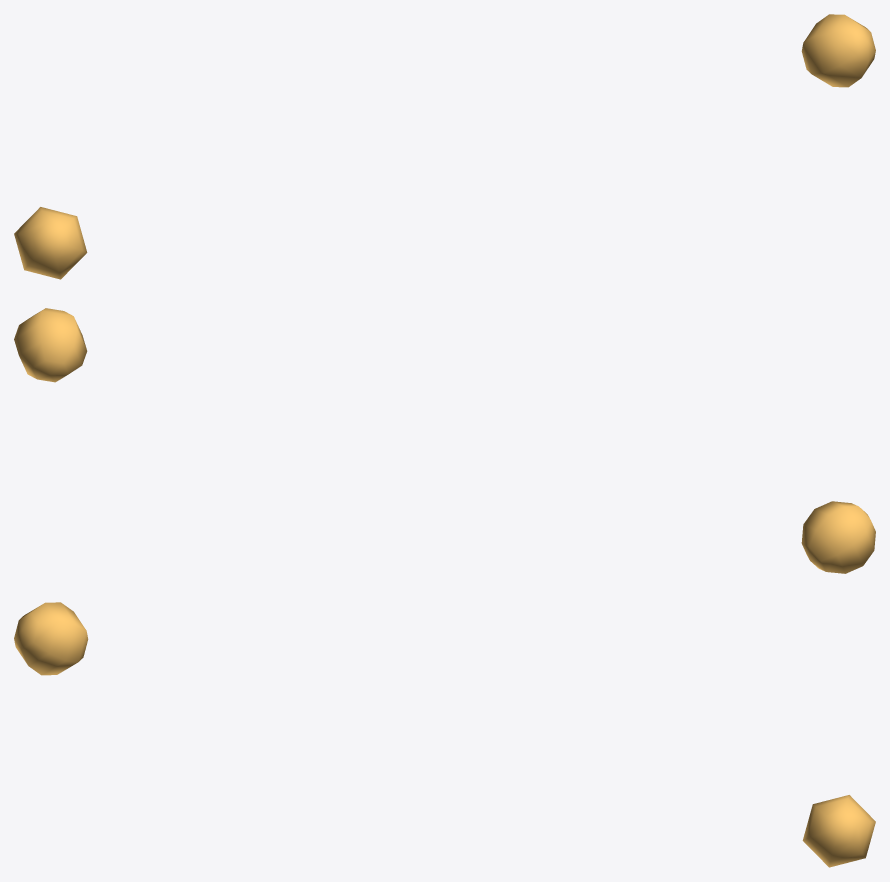
File: Earring_2.fbx
The picture shows the model from 3 angles, top to bottom: view 1: azimuth 30°, elevation 25°; view 2: azimuth 150°, elevation 25°; view 3: azimuth 330°, elevation 25°; orthographic projection.
Parts seen in each view (by area): view 1: Earring_2; view 2: Earring_2; view 3: Earring_2.
Part boxes in pixels (x1,y1,x2,y2): Earring_2: (14, 14, 875, 279); Earring_2: (14, 308, 875, 573); Earring_2: (14, 602, 875, 867).
Size of the model in its own units: 55.2 by 4.16 by 4.08.
